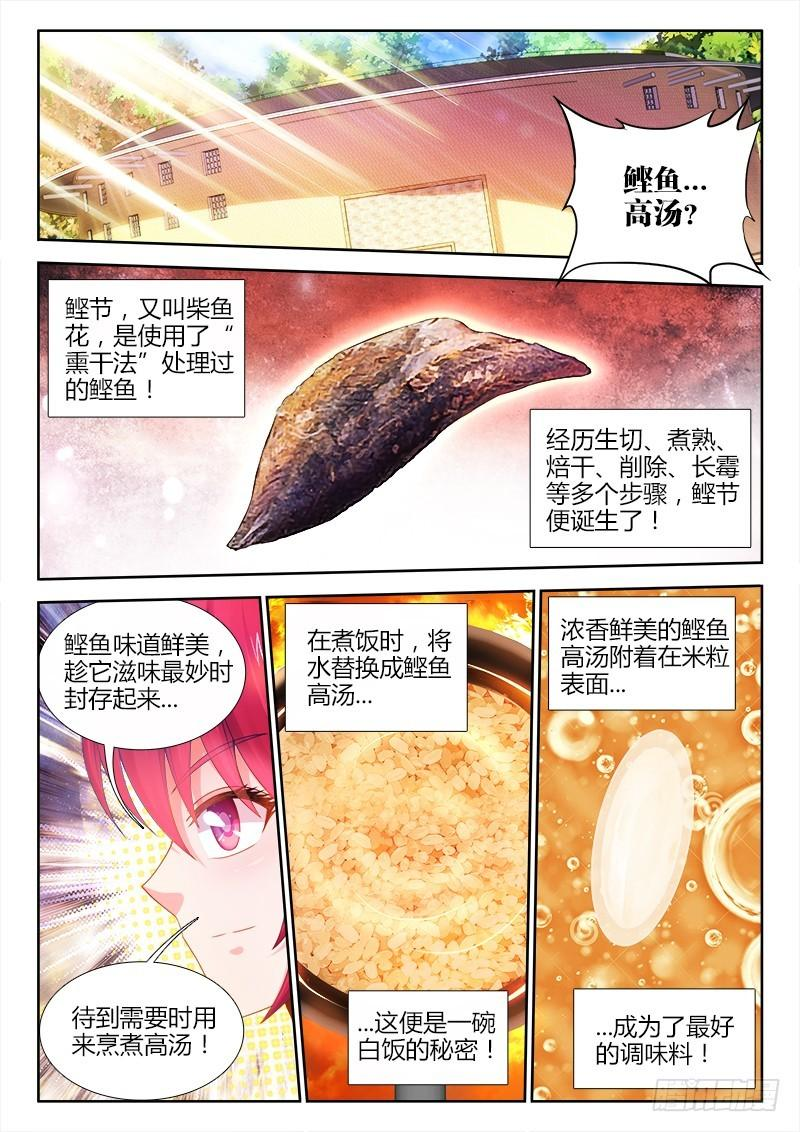boxBomb: (553, 93, 770, 291)
boxCube: (525, 404, 753, 550), (44, 276, 246, 417), (281, 600, 469, 733), (545, 592, 738, 713), (570, 985, 757, 1089), (345, 985, 508, 1086)
boxEllipse: (37, 600, 247, 773), (37, 948, 246, 1095)
minBox: (32, 259, 765, 580), (34, 27, 765, 264), (261, 590, 535, 1101), (34, 597, 303, 1106), (535, 582, 767, 1103)
